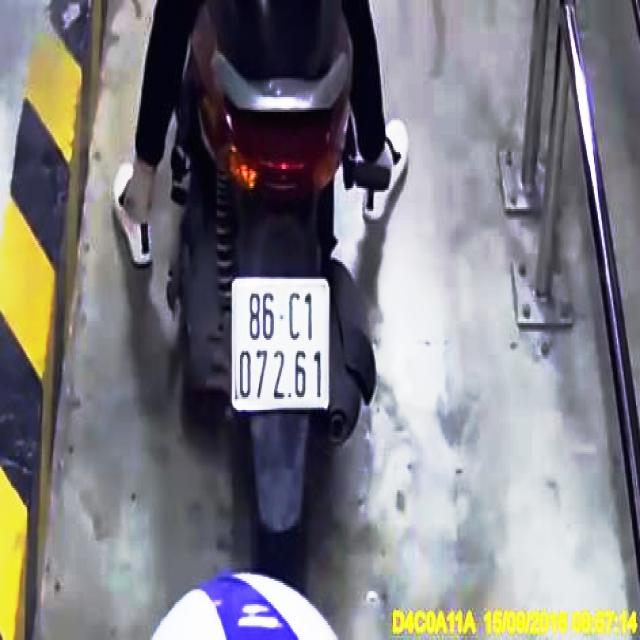license_plate: (234, 282, 333, 411)
